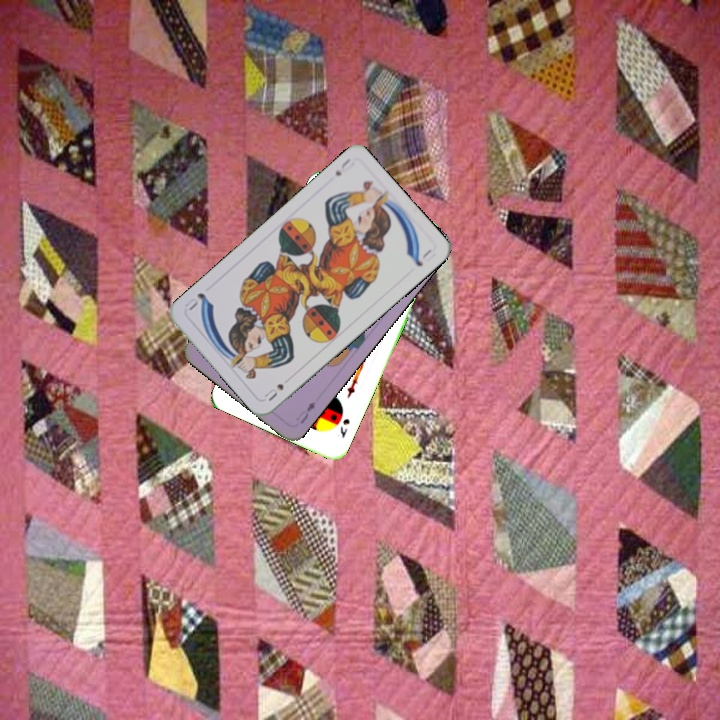EU: (292, 397, 318, 427)
SK: (336, 414, 352, 441)
SU: (260, 379, 286, 404), (331, 154, 353, 179)
